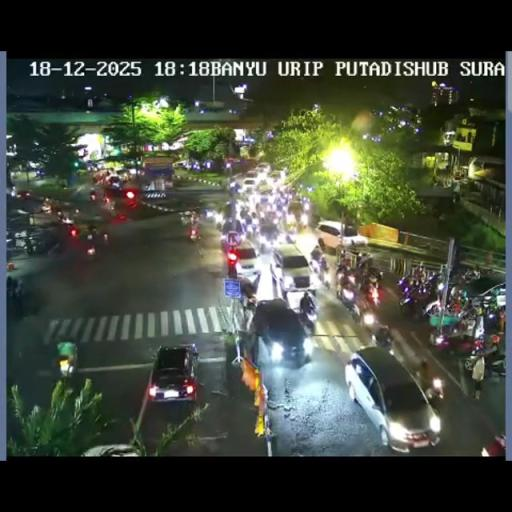Car: (347, 344, 441, 448), (247, 298, 312, 368), (148, 344, 200, 403), (274, 243, 314, 296), (315, 220, 368, 251), (228, 240, 261, 282), (55, 341, 78, 379), (220, 218, 246, 247), (103, 178, 137, 198), (241, 178, 260, 192), (114, 167, 134, 180), (268, 170, 286, 182), (254, 162, 270, 174), (172, 160, 190, 169), (16, 190, 33, 199)
Motorcycle: (428, 307, 478, 349), (398, 272, 438, 318), (463, 334, 504, 374), (335, 272, 362, 316), (364, 312, 395, 350), (358, 270, 384, 308), (483, 302, 505, 332), (451, 266, 481, 288), (312, 255, 331, 289), (238, 274, 258, 304), (446, 287, 469, 312), (299, 291, 315, 324), (356, 251, 374, 272), (45, 236, 64, 255), (335, 259, 349, 282), (82, 238, 96, 260), (4, 234, 18, 256), (257, 237, 271, 257), (96, 227, 110, 246), (244, 220, 258, 239), (40, 199, 54, 214), (24, 236, 35, 255), (101, 196, 115, 210), (56, 210, 70, 224), (287, 220, 298, 237), (189, 226, 200, 242), (177, 212, 189, 226), (213, 211, 224, 226), (302, 195, 310, 213), (228, 180, 238, 194), (69, 224, 79, 238), (300, 212, 309, 226), (452, 190, 460, 204), (318, 236, 324, 250), (90, 189, 96, 201)
